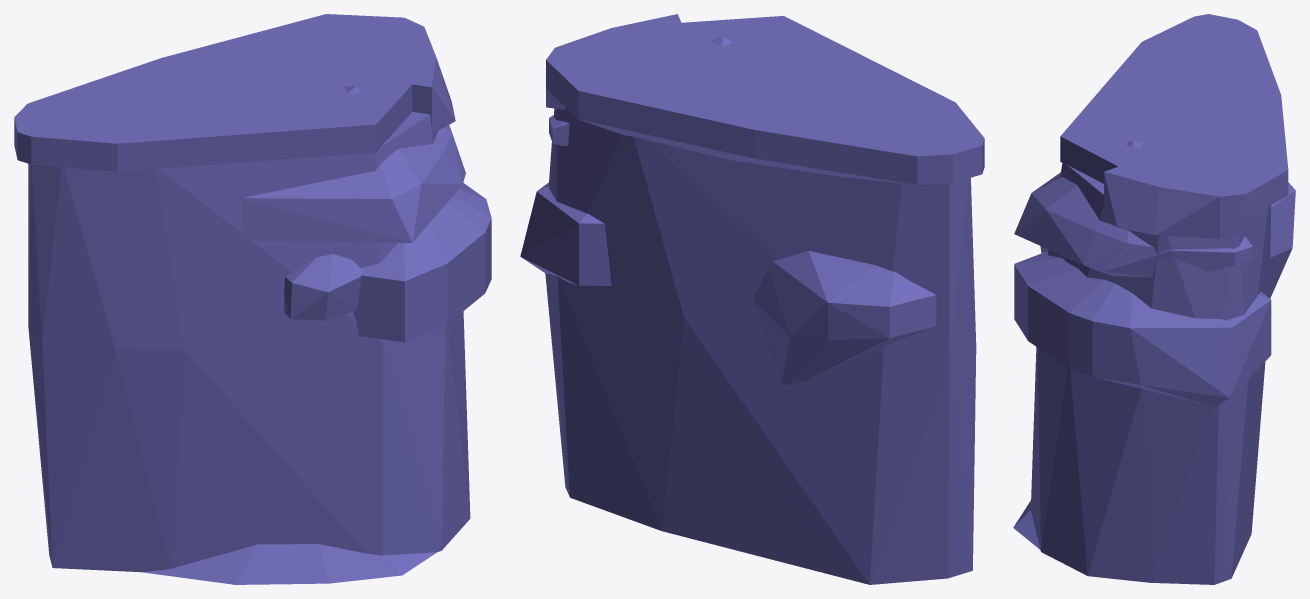
Rendered from Cliff_Plateau_02_Collider_01.FBX.
The picture shows the model from 3 angles, left to right: view 1: azimuth 30°, elevation 25°; view 2: azimuth 150°, elevation 25°; view 3: azimuth 270°, elevation 25°; orthographic projection. The views are drawn at different scales.
Parts seen in each view (by area): view 1: COLLIDER3, COLLIDER1, COLLIDER7, COLLIDER6, COLLIDER8, COLLIDER4, COLLIDER2; view 2: COLLIDER3, COLLIDER1, COLLIDER5, COLLIDER6, COLLIDER2, COLLIDER7; view 3: COLLIDER3, COLLIDER1, COLLIDER6, COLLIDER7, COLLIDER2, COLLIDER5, COLLIDER8.
Boxes of the visible parts, x1,y1,x2,y2 form: COLLIDER3: [28, 81, 470, 572]; COLLIDER1: [14, 14, 412, 171]; COLLIDER7: [240, 86, 465, 242]; COLLIDER6: [353, 183, 491, 342]; COLLIDER8: [142, 544, 436, 584]; COLLIDER4: [284, 254, 363, 320]; COLLIDER2: [404, 17, 455, 133]; COLLIDER3: [545, 107, 976, 584]; COLLIDER1: [546, 16, 984, 184]; COLLIDER5: [752, 251, 936, 384]; COLLIDER6: [520, 182, 611, 285]; COLLIDER2: [546, 14, 681, 109]; COLLIDER7: [549, 36, 732, 145]; COLLIDER3: [1030, 163, 1271, 584]; COLLIDER1: [1060, 14, 1288, 219]; COLLIDER6: [1014, 252, 1271, 406]; COLLIDER7: [1014, 141, 1252, 277]; COLLIDER2: [1104, 166, 1245, 238]; COLLIDER5: [1269, 182, 1295, 298]; COLLIDER8: [1013, 500, 1040, 549].
Bounding box in the file's own units: 707 × 667 × 432.
